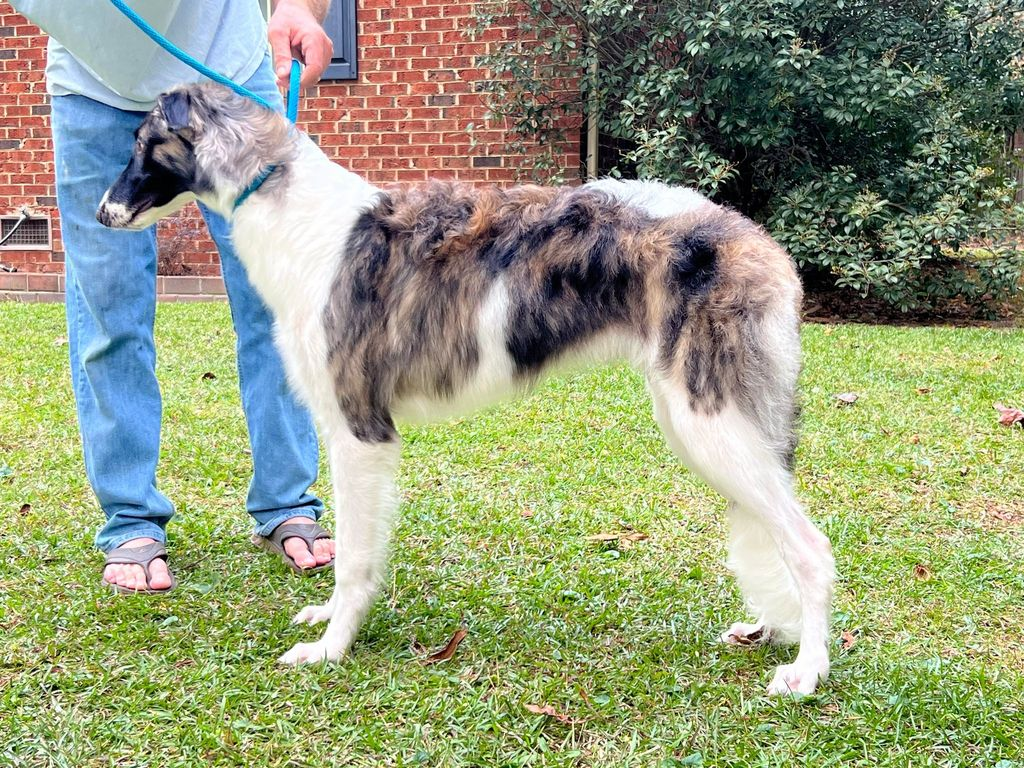borzoi: (93, 57, 846, 716)
